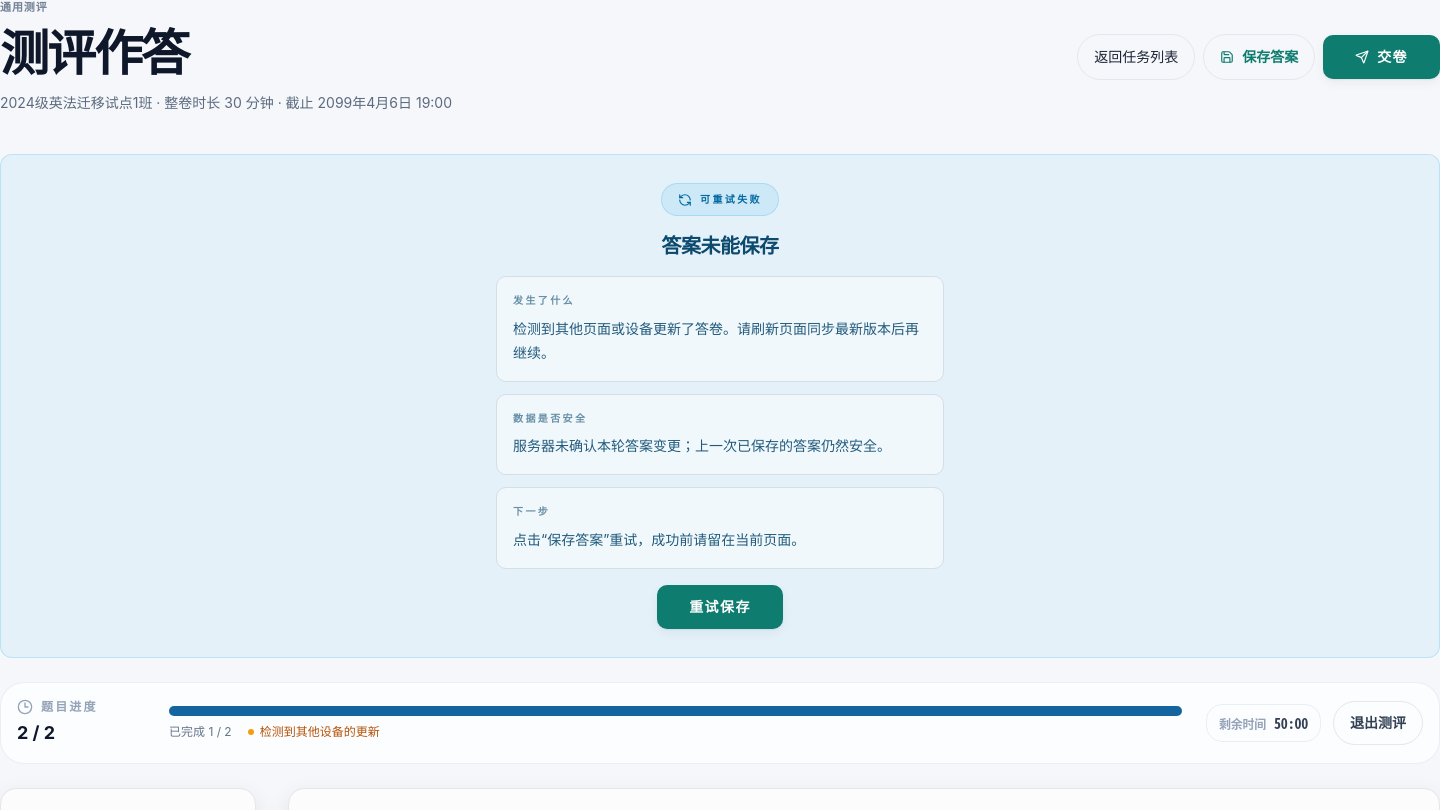
Test case: AssessmentAttempt › shows unanswered question numbers before manual submission
Click the button "交卷" at (1382, 57), box [1323,35,1439,79]
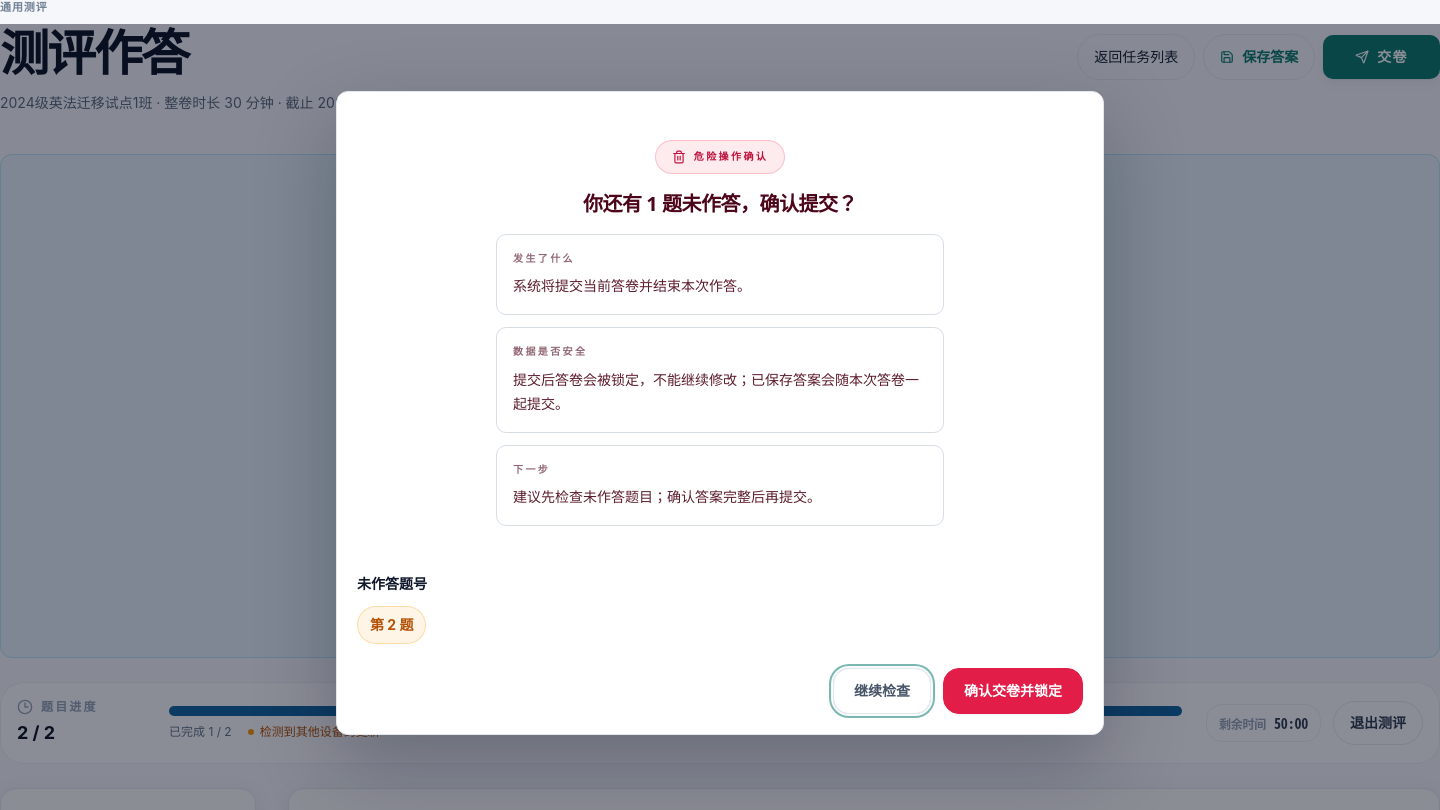
Now the heading "你还有 1 题未作答，确认提交？" is shown, box [583,190,857,218]
Now the button "第 2 题" is shown, box [357,606,426,644]
